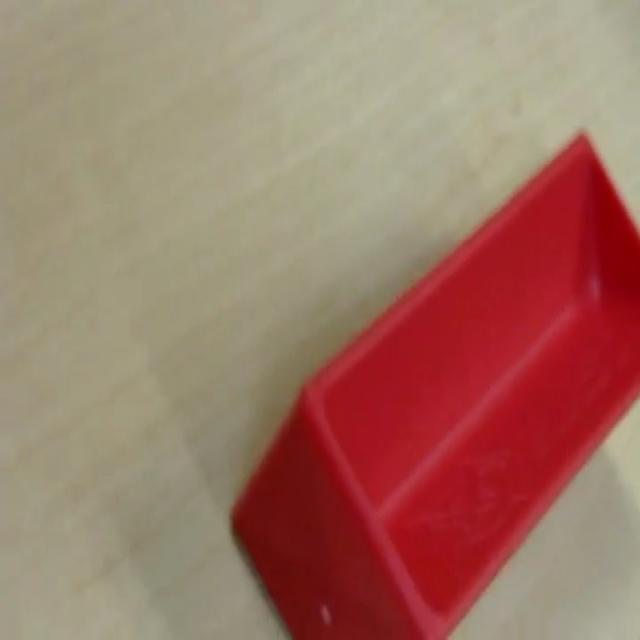red_block: (228, 127, 639, 637)
